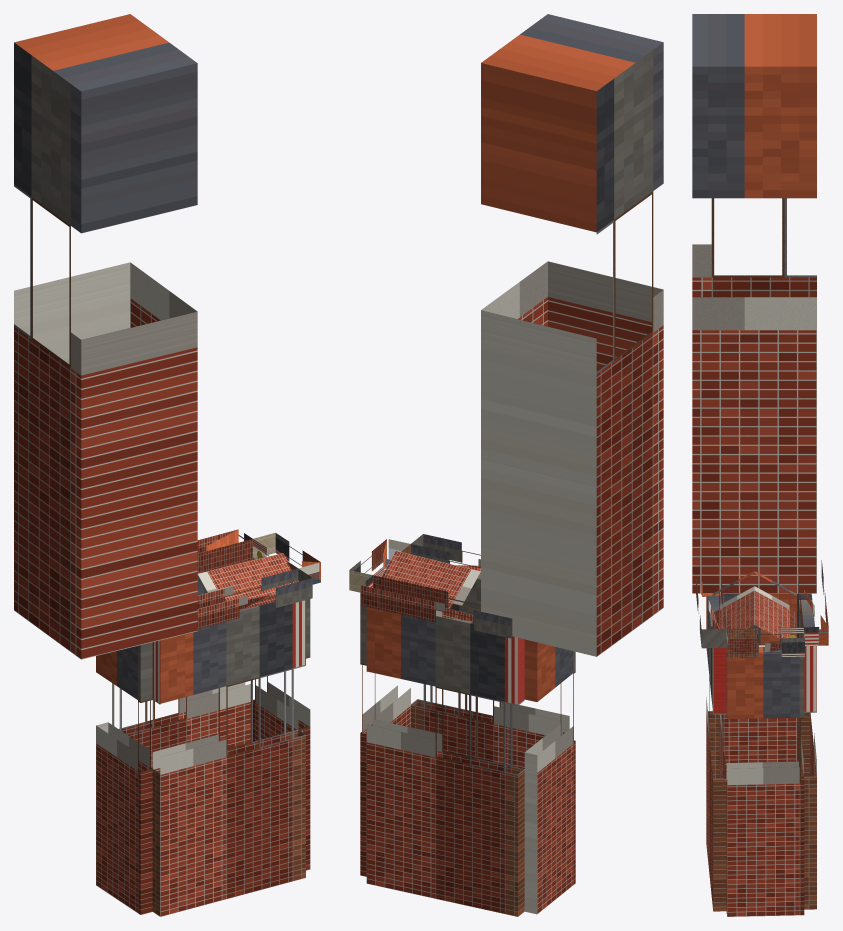
3 views of the same model, side by side, from view 1: azimuth 30°, elevation 25°; view 2: azimuth 150°, elevation 25°; view 3: azimuth 270°, elevation 25° (orthographic). The views are drawn at different scales.
Visible parts, largest first — view 1: 1107169172__chimney_0_xb, 1107169172__wall_0_xb, 1107169172__wall_1_xb, 1107169172__wall_2_xb, 1107169172__wall_3_xb, 1107169172__cornice_0, 1107169172_roof_-1_xb, 1107169172__cornice_2, 1107169172__cornice_3; view 2: 1107169172__chimney_0_xb, 1107169172__wall_2_xb, 1107169172__wall_1_xb, 1107169172__wall_0_xb, 1107169172__cornice_2, 1107169172__wall_3_xb, 1107169172_roof_1_xb, 1107169172__cornice_0, 1107169172__cornice_3; view 3: 1107169172__chimney_0_xb, 1107169172__wall_3_xb, 1107169172__wall_0_xb, 1107169172__wall_2_xb, 1107169172__wall_1_xb, 1107169172__cornice_3, 1107169172_roof_1_xb, 1107169172_roof_-1_xb, 1107169172__cornice_2, 1107169172__cornice_0.
Boxes of the visible parts, left/top/right/bottom form: 1107169172__chimney_0_xb: left=14, top=14, right=197, bottom=659; 1107169172__wall_0_xb: left=152, top=600, right=305, bottom=916; 1107169172__wall_1_xb: left=96, top=642, right=152, bottom=914; 1107169172__wall_2_xb: left=112, top=559, right=252, bottom=768; 1107169172__wall_3_xb: left=253, top=556, right=310, bottom=870; 1107169172__cornice_0: left=197, top=568, right=312, bottom=628; 1107169172_roof_-1_xb: left=198, top=553, right=298, bottom=609; 1107169172__cornice_2: left=197, top=529, right=252, bottom=573; 1107169172__cornice_3: left=253, top=532, right=320, bottom=584; 1107169172__chimney_0_xb: left=481, top=14, right=663, bottom=656; 1107169172__wall_2_xb: left=366, top=607, right=524, bottom=916; 1107169172__wall_1_xb: left=524, top=639, right=575, bottom=914; 1107169172__wall_0_xb: left=411, top=574, right=569, bottom=768; 1107169172__cornice_2: left=360, top=575, right=512, bottom=638; 1107169172__wall_3_xb: left=360, top=574, right=410, bottom=876; 1107169172_roof_1_xb: left=381, top=551, right=480, bottom=610; 1107169172__cornice_0: left=411, top=534, right=480, bottom=578; 1107169172__cornice_3: left=349, top=539, right=410, bottom=592; 1107169172__chimney_0_xb: left=692, top=14, right=816, bottom=593; 1107169172__wall_3_xb: left=726, top=647, right=804, bottom=916; 1107169172__wall_0_xb: left=706, top=593, right=726, bottom=911; 1107169172__wall_2_xb: left=797, top=593, right=816, bottom=909; 1107169172__wall_1_xb: left=721, top=593, right=796, bottom=777; 1107169172__cornice_3: left=726, top=627, right=804, bottom=658; 1107169172_roof_1_xb: left=754, top=571, right=796, bottom=639; 1107169172_roof_-1_xb: left=712, top=571, right=754, bottom=636; 1107169172__cornice_2: left=798, top=560, right=828, bottom=645; 1107169172__cornice_0: left=696, top=576, right=726, bottom=648.
Bounding box in the file's own units: 0.3337 × 1.05 × 0.164.
Materials: 1 (1 with a texture image).
